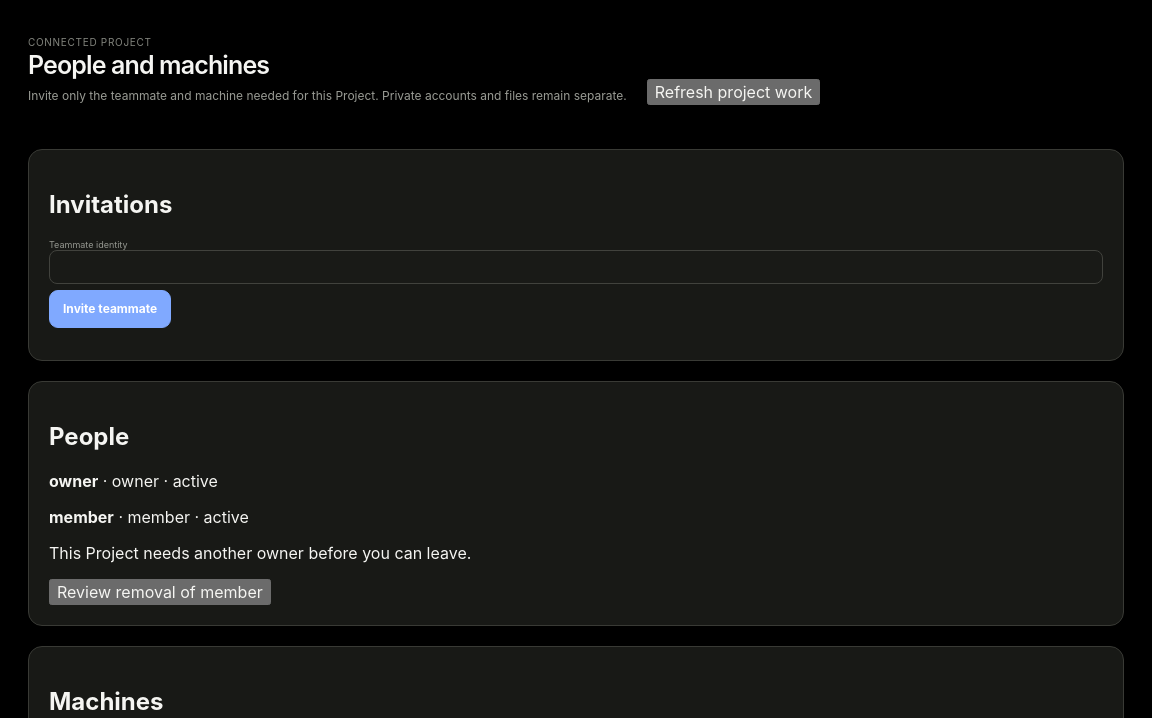
Test: PROJECT-MEMBER-REMOVAL-1: external credential issuer receipt never claims worker credentials were revoked
Click the button "Review removal of member" at {"x": 160, "y": 592}, box left=49, top=579, right=271, bottom=605
(page scrolled)
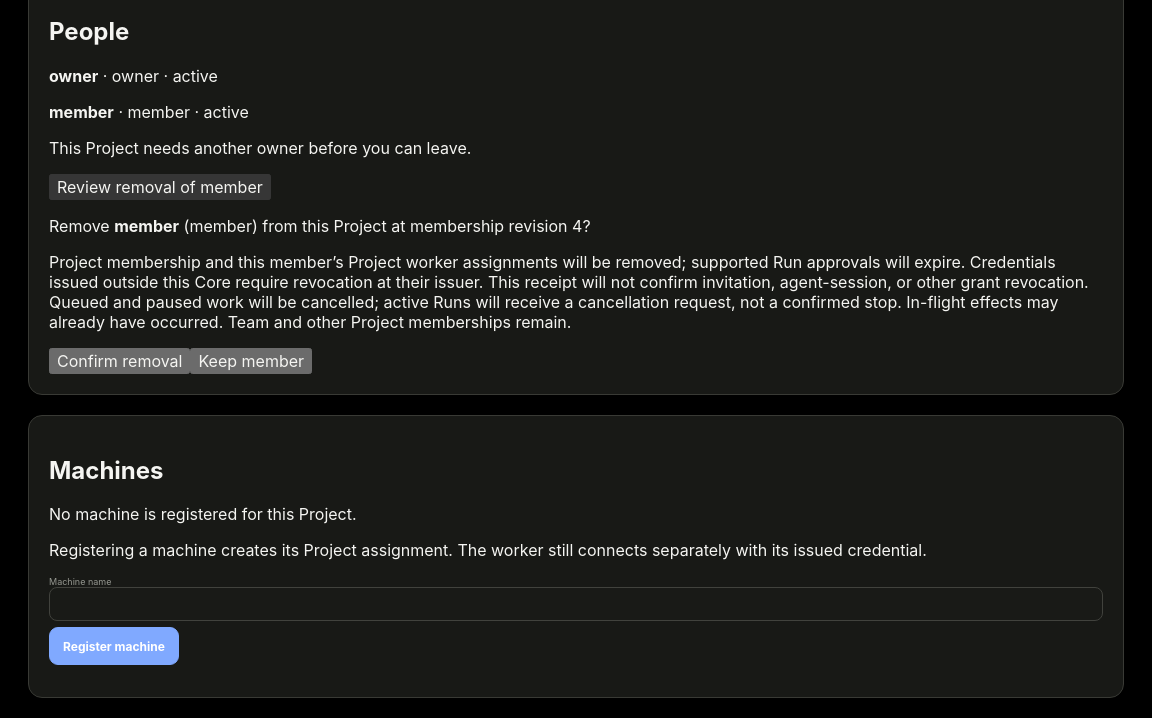
Click the button "Confirm removal" at {"x": 120, "y": 361}, box left=49, top=348, right=190, bottom=374
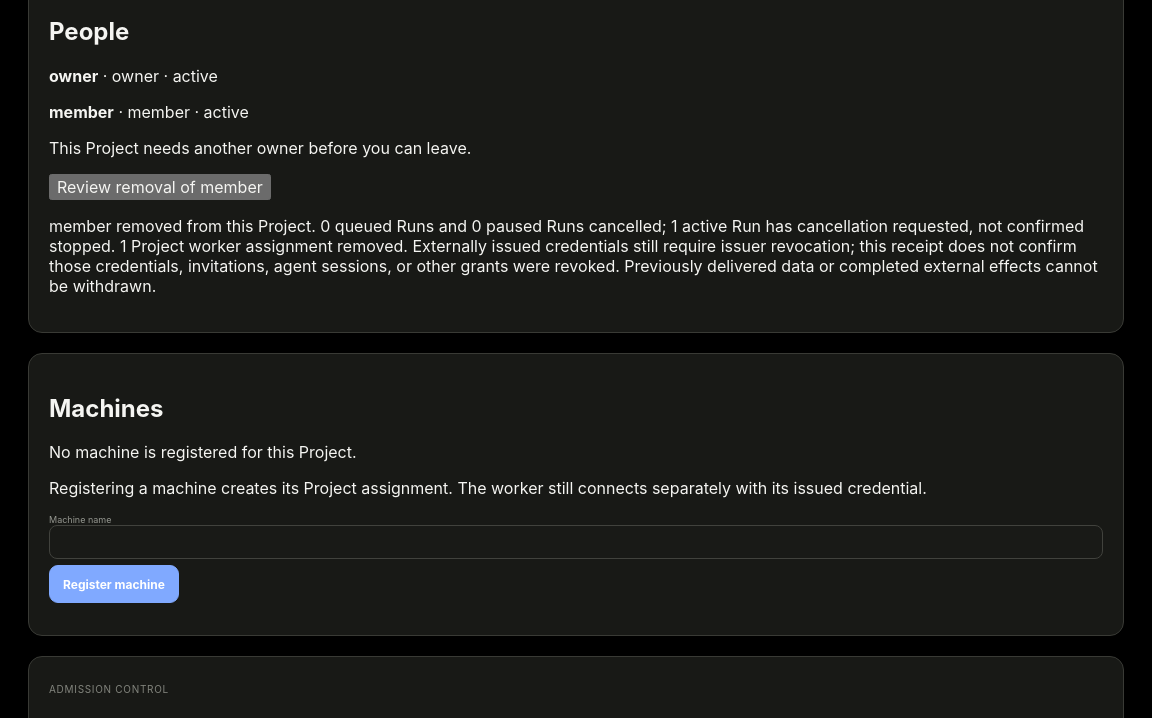
Expected: the message shows "1 Project worker assignment removed", left=49, top=216, right=1103, bottom=296
